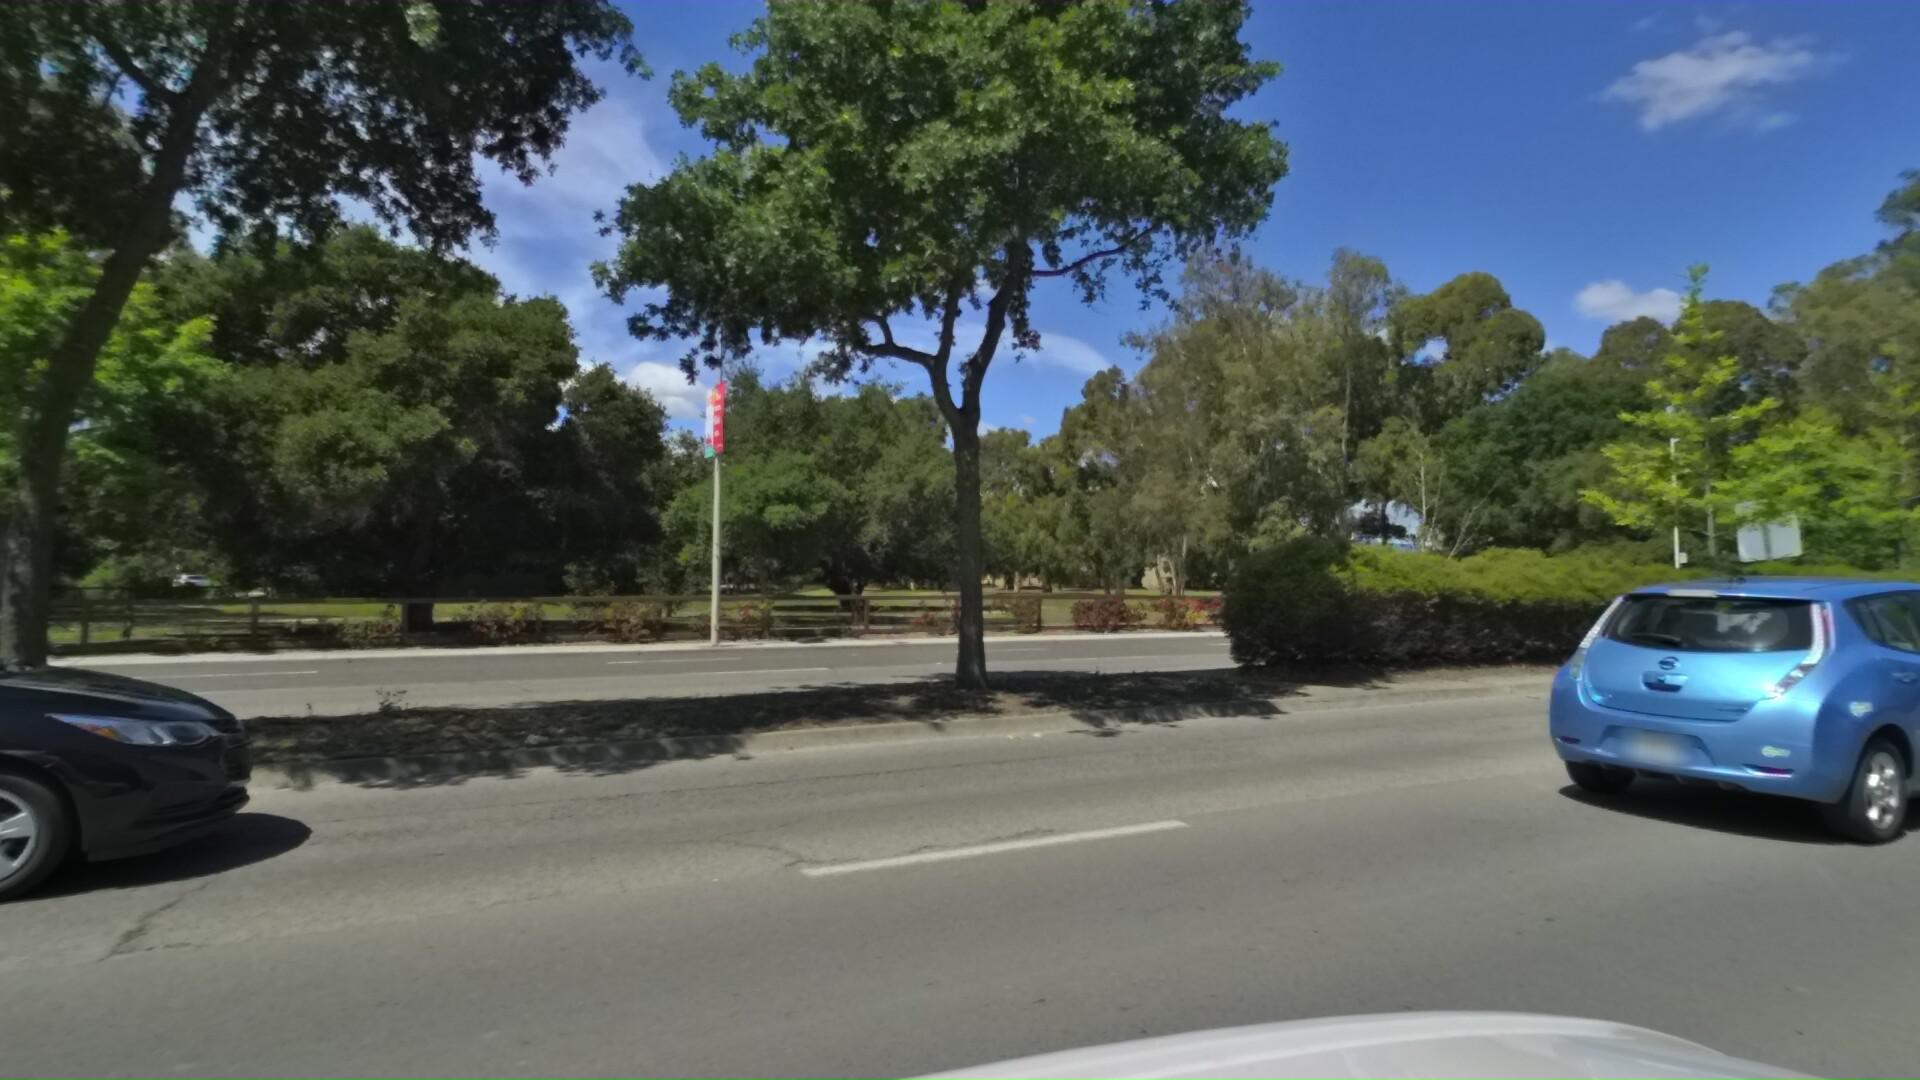car: (0, 564, 251, 1080), (1520, 568, 1920, 856)
